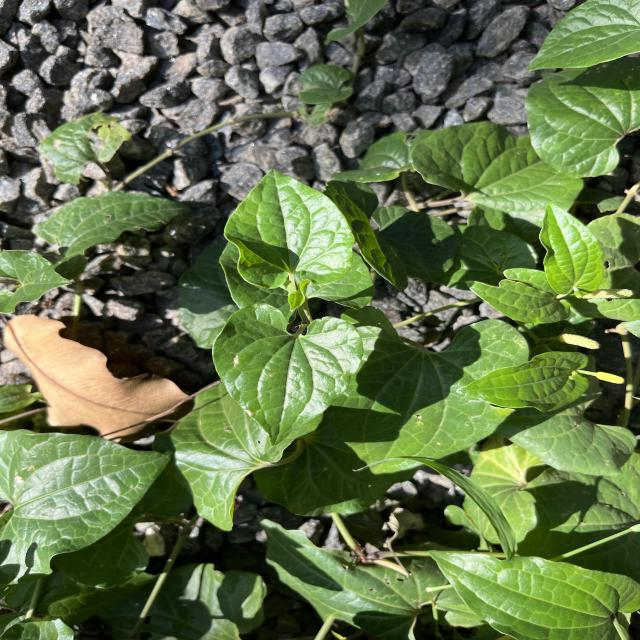Piper longum: (210, 302, 365, 448), (220, 166, 356, 291)
